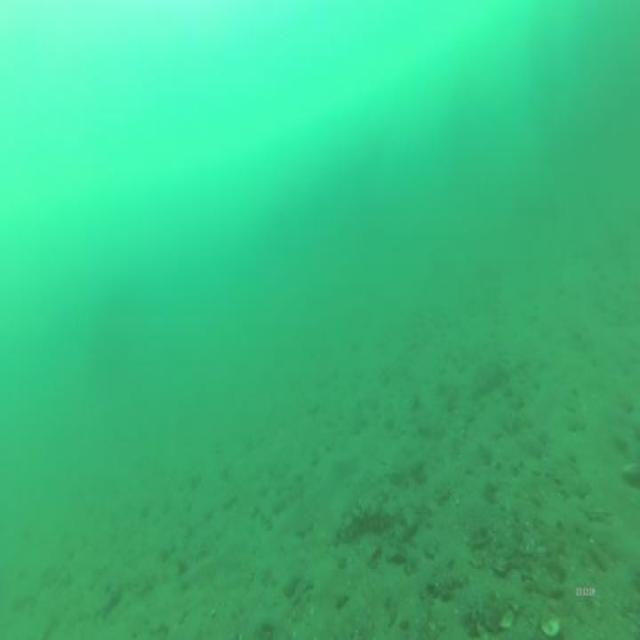holothurian: (337, 492, 397, 544)
